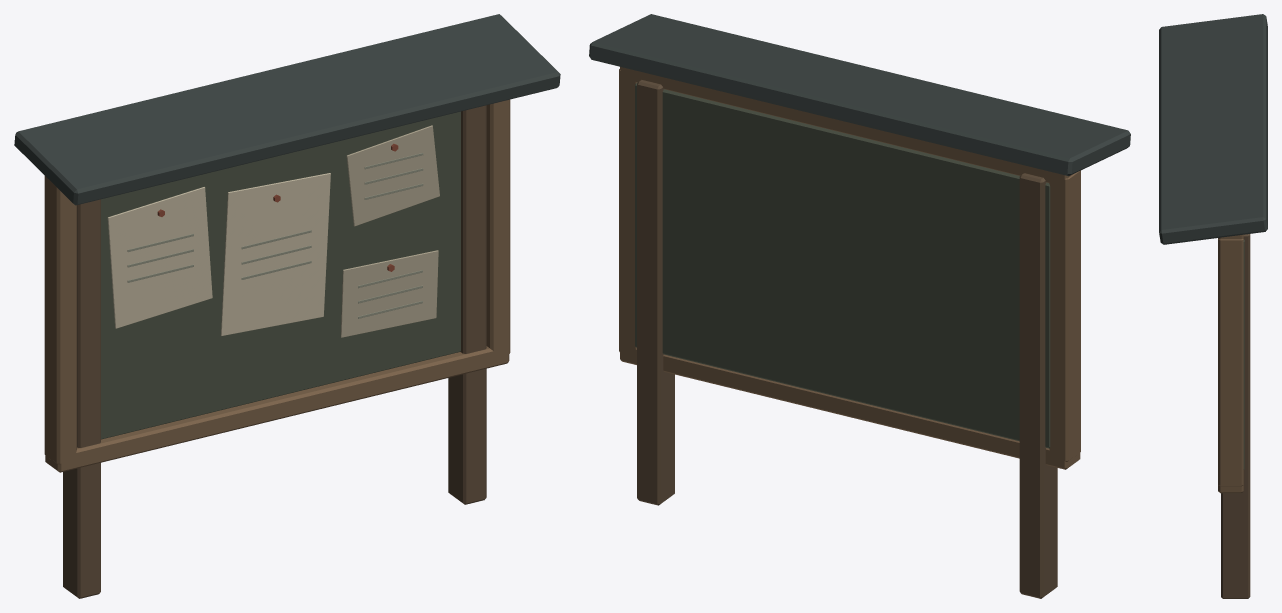
The model's file is NoticeBoard01.fbx.
3 views of the same model, side by side, from view 1: azimuth 30°, elevation 25°; view 2: azimuth 150°, elevation 25°; view 3: azimuth 270°, elevation 25° (orthographic). The views are drawn at different scales.
Visible parts, largest first — view 1: Board_Back, Rain_Hood, Pinned_Paper.001, Board_Post.001, Pinned_Paper, Board_Post, Board_Frame, Side_Frame, Side_Frame.001, Pinned_Paper.003, Pinned_Paper.002; view 2: Board_Back, Rain_Hood, Board_Post, Board_Post.001, Side_Frame, Board_Frame, Board_Frame.001, Side_Frame.001; view 3: Rain_Hood, Side_Frame.001, Board_Post.001, Board_Back, Board_Frame.
Boxes of the visible parts, x1,y1,x2,y2 form: Board_Back: [101, 111, 460, 439]; Rain_Hood: [14, 14, 560, 205]; Pinned_Paper.001: [220, 173, 330, 335]; Board_Post.001: [448, 105, 486, 504]; Pinned_Paper: [107, 187, 212, 328]; Board_Post: [63, 199, 100, 598]; Board_Frame: [45, 346, 509, 472]; Side_Frame: [44, 176, 76, 464]; Side_Frame.001: [486, 99, 510, 357]; Pinned_Paper.003: [340, 250, 438, 337]; Pinned_Paper.002: [346, 125, 439, 226]; Board_Back: [635, 82, 1050, 448]; Rain_Hood: [589, 14, 1130, 176]; Board_Post: [1019, 173, 1057, 598]; Board_Post.001: [637, 80, 674, 505]; Side_Frame: [1049, 170, 1080, 461]; Board_Frame: [620, 347, 1080, 469]; Board_Frame.001: [620, 67, 1072, 186]; Side_Frame.001: [619, 69, 636, 355]; Rain_Hood: [1159, 14, 1267, 244]; Side_Frame.001: [1218, 239, 1243, 486]; Board_Post.001: [1221, 234, 1250, 598]; Board_Back: [1243, 239, 1244, 469]; Board_Frame: [1218, 485, 1243, 493].
Bounding box in the file's own units: 265 × 239 × 59.26.
